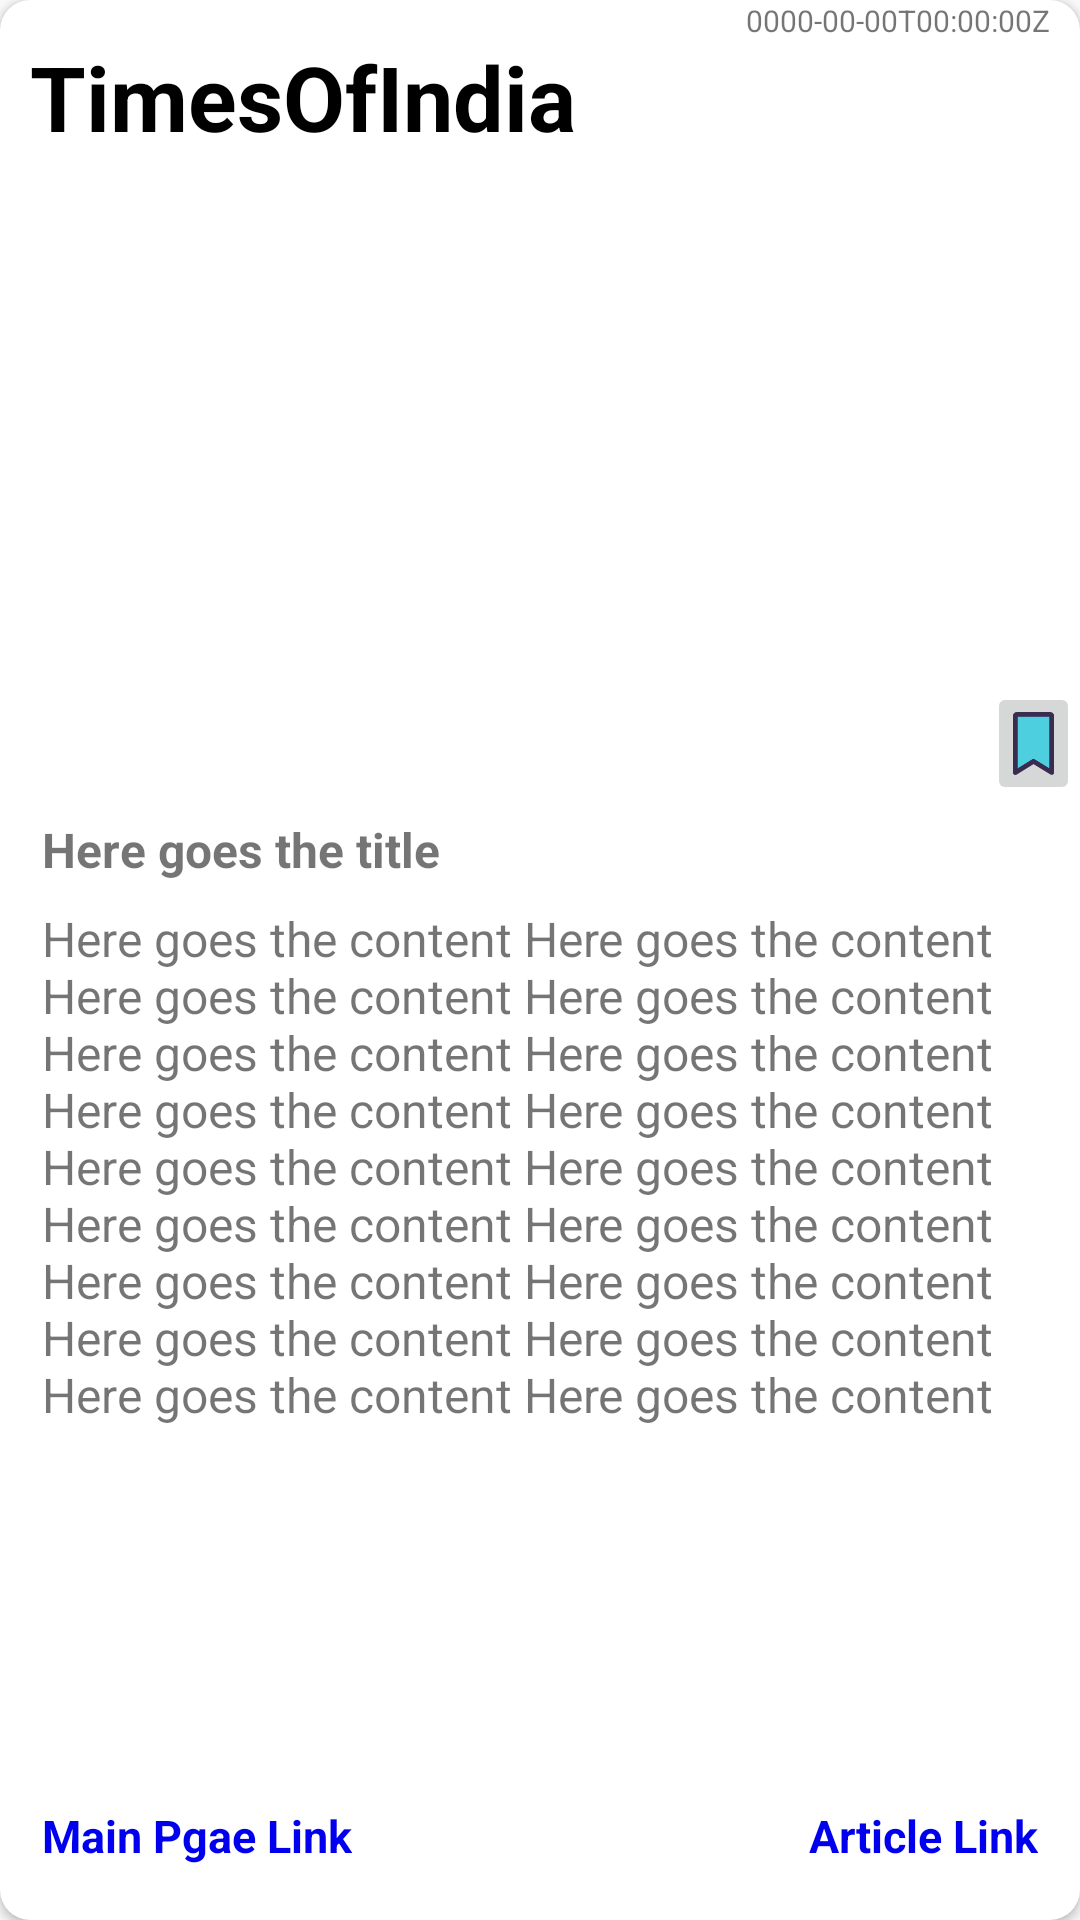

Screen size 1080x1920. Icon name, then its box in pixels as BBox(x1, y1, x2, y2):
bookmark: BBox(999, 700, 1068, 787)
